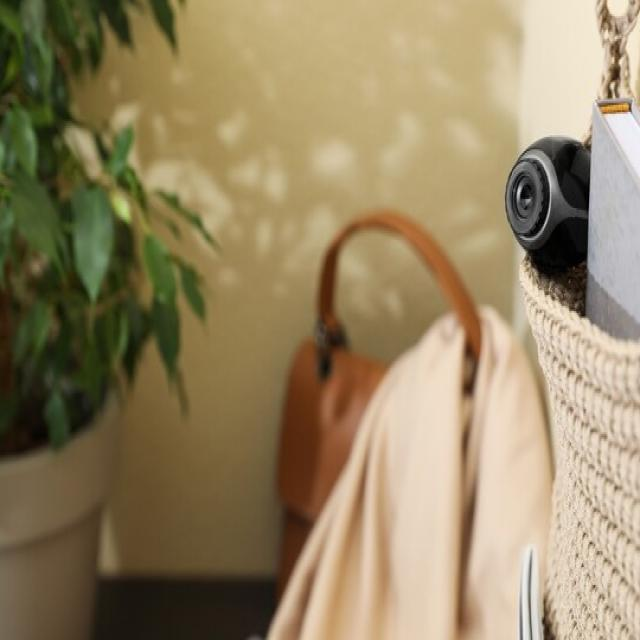hidden camera: (513, 175, 538, 218)
